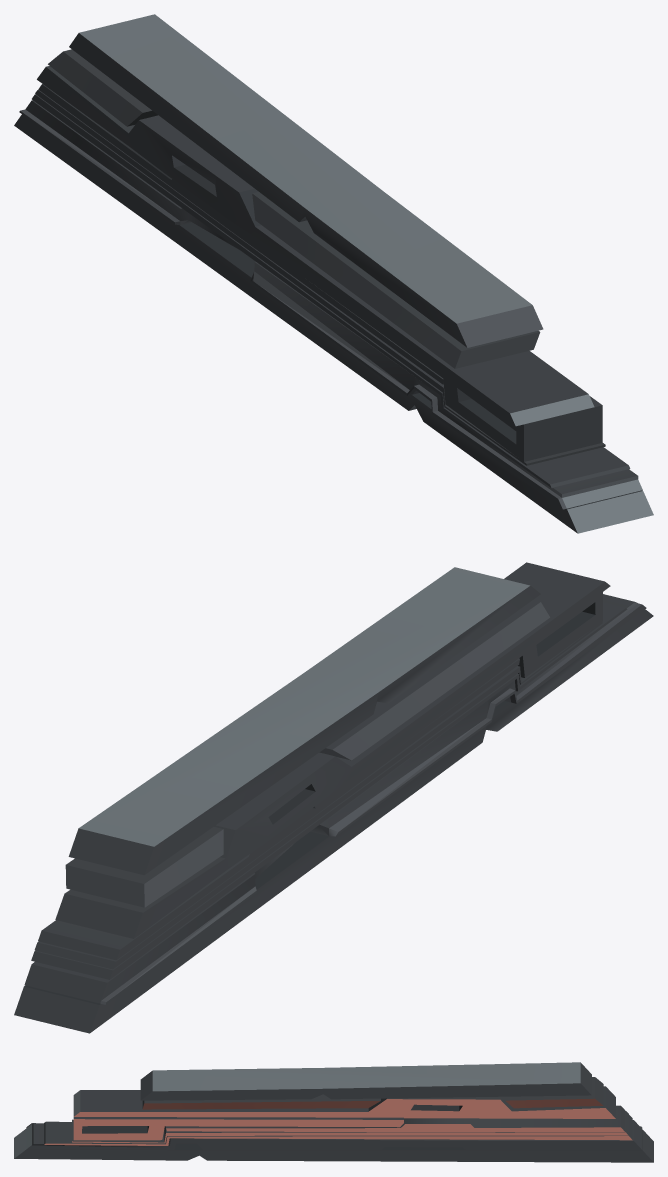
Rendered from detail_portal_05.fbx.
3 renders of one model, top to bottom at view 1: azimuth 30°, elevation 25°; view 2: azimuth 150°, elevation 25°; view 3: azimuth 270°, elevation 25°, orthographic. The views are drawn at different scales.
Visible parts, largest first — view 1: detail_portal_05; view 2: detail_portal_05; view 3: detail_portal_05.
Part boxes in pixels (<box>): detail_portal_05: <box>14,14,653,533</box>; detail_portal_05: <box>14,562,653,1033</box>; detail_portal_05: <box>14,1062,653,1162</box>.
Size of the model in its own units: 42.69 by 63.76 by 466.
